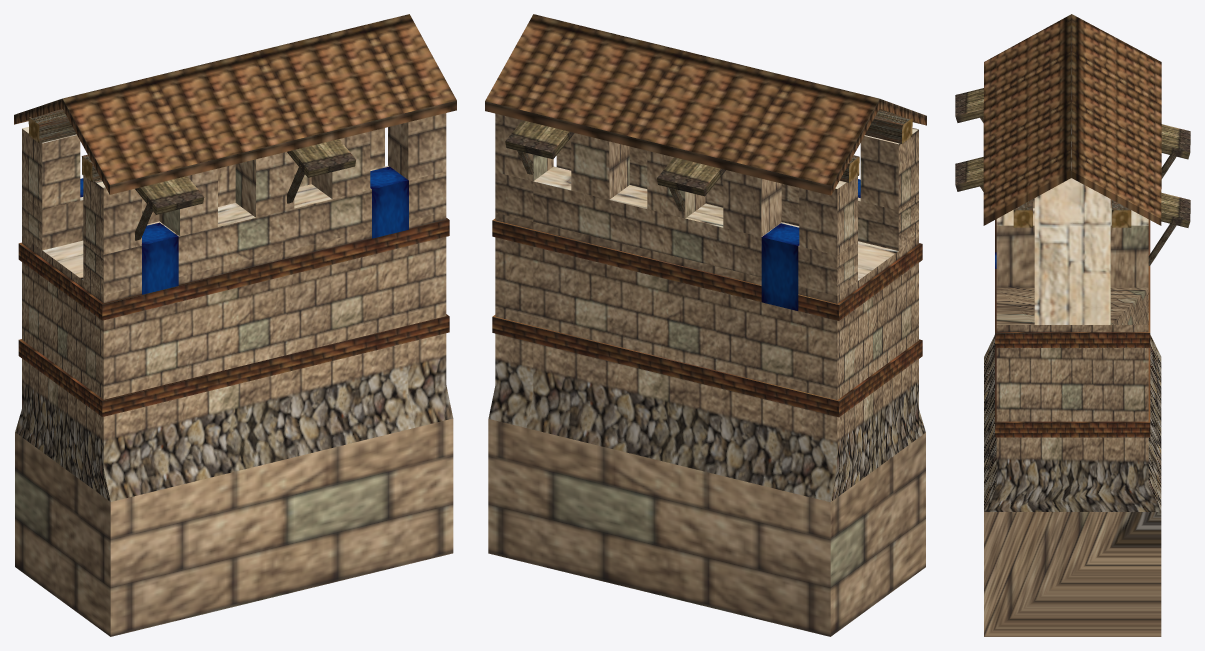
Rendered from wall_medium.dae.
The picture shows the model from 3 angles, left to right: view 1: azimuth 30°, elevation 25°; view 2: azimuth 150°, elevation 25°; view 3: azimuth 270°, elevation 25°; orthographic projection. The views are drawn at different scales.
Visible parts, largest first — view 1: wall_medium; view 2: wall_medium; view 3: wall_medium.
Part boxes in pixels (bbox=[...]): wall_medium: bbox=[14, 14, 456, 636]; wall_medium: bbox=[485, 14, 926, 636]; wall_medium: bbox=[955, 14, 1190, 636].
Size of the model in its own units: 17.7 by 11.12 by 24.38.
